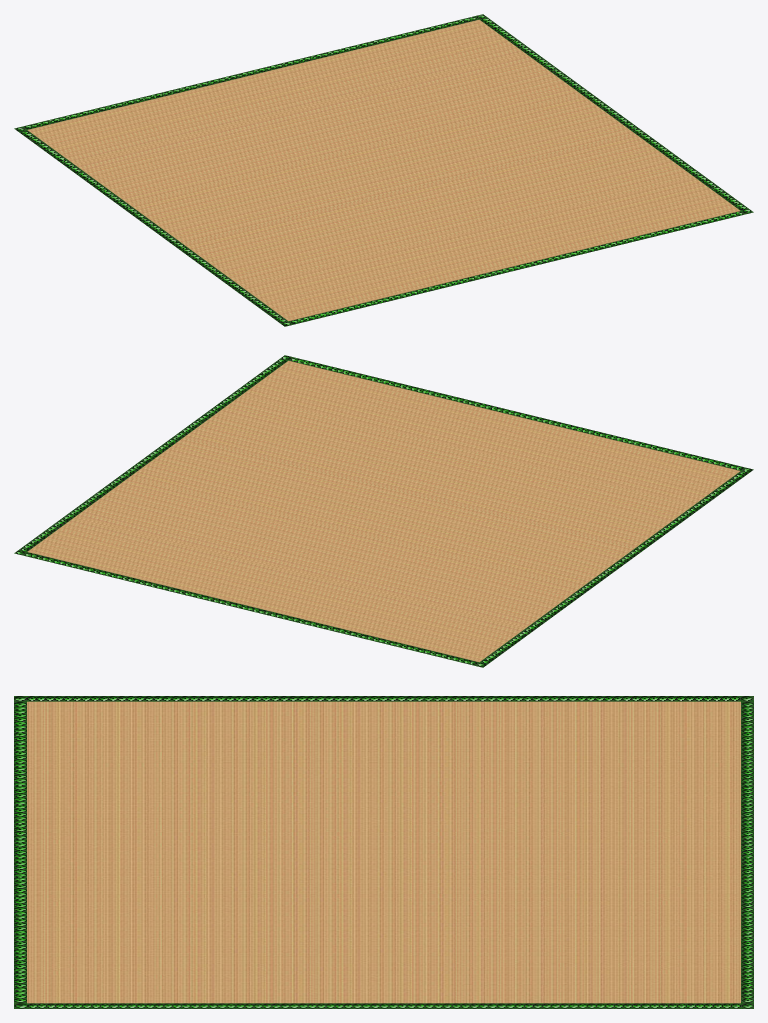
File: Tatami1x1_Low.fbx
3 views of the same model, one above another, from view 1: azimuth 30°, elevation 25°; view 2: azimuth 150°, elevation 25°; view 3: azimuth 270°, elevation 25° (orthographic). The views are drawn at different scales.
Parts seen in each view (by area): view 1: Tatami1x1; view 2: Tatami1x1; view 3: Tatami1x1.
Part boxes in pixels (x1,y1,x2,y2): Tatami1x1: (14,14,753,326); Tatami1x1: (14,355,753,667); Tatami1x1: (14,696,753,1008).
Bounding box in the file's own units: 89.05 × 0.00535 × 89.05.
1 material, 1 textured.
